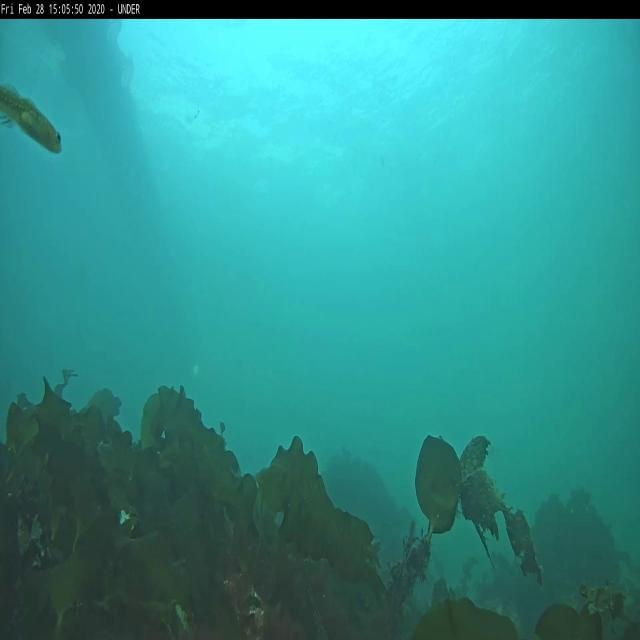fish: (0, 81, 64, 155)
